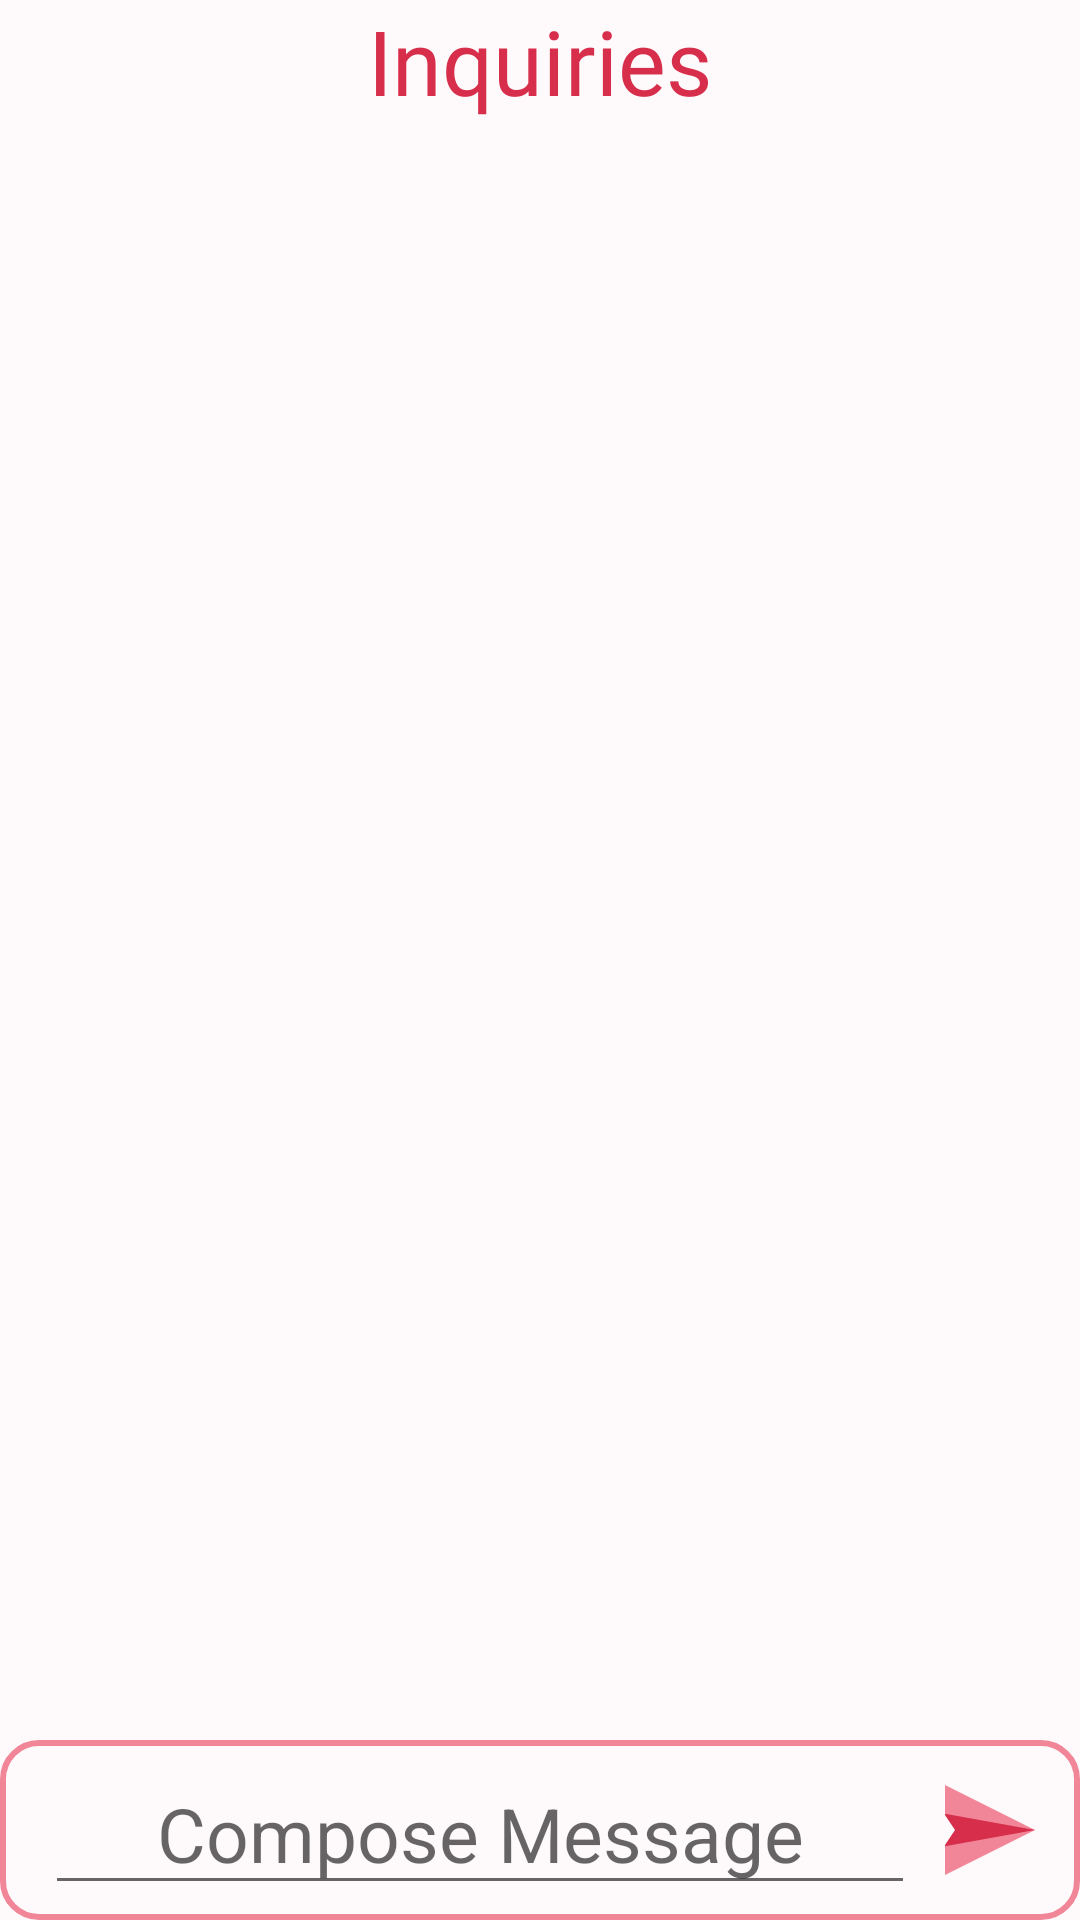

Screen size 1080 x 1920. Icon name, then its box in pixels as detection(x1, y1, x2, y2):
send: detection(945, 1785, 1035, 1875)
